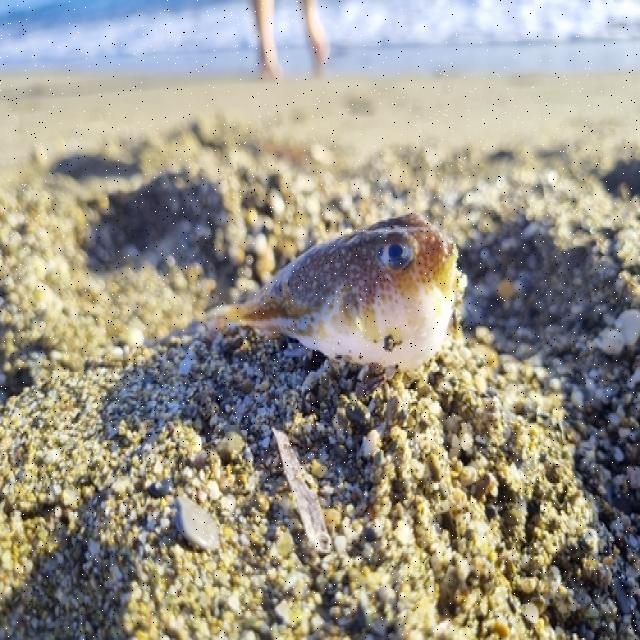Balik: (210, 214, 459, 368)
